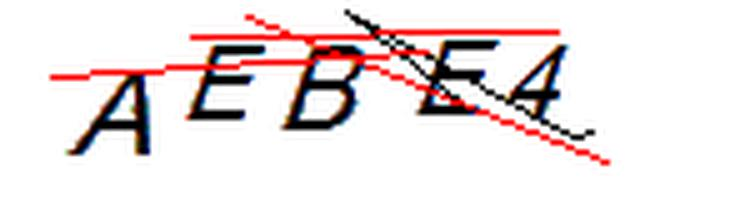4: (496, 39, 592, 129)
A: (59, 66, 172, 163)
B: (272, 39, 378, 141)
E: (410, 29, 505, 126), (177, 38, 275, 129)
